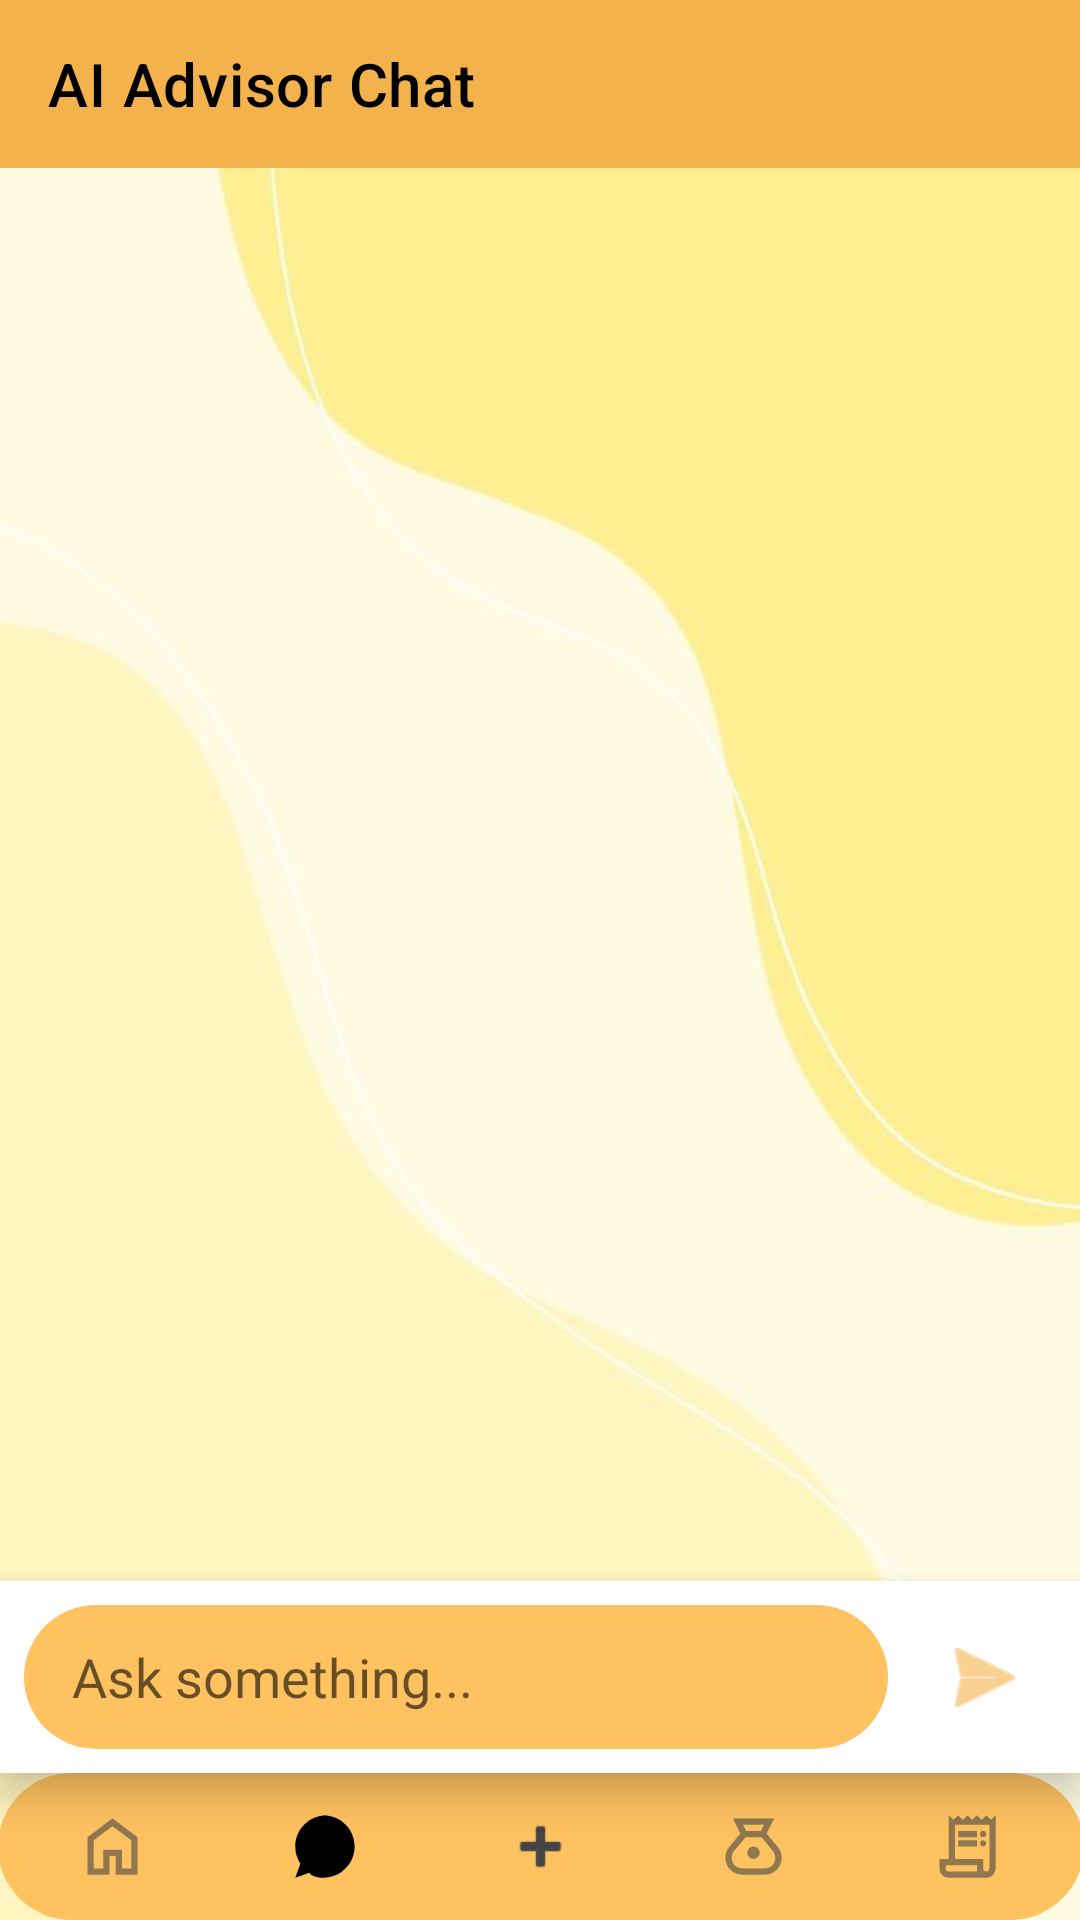

Icons on this 1080*1920 Android screen, each with its box as (x1, y1, x2, y2):
ai chat: (295, 1815, 355, 1878)
send: (954, 1647, 1015, 1708)
